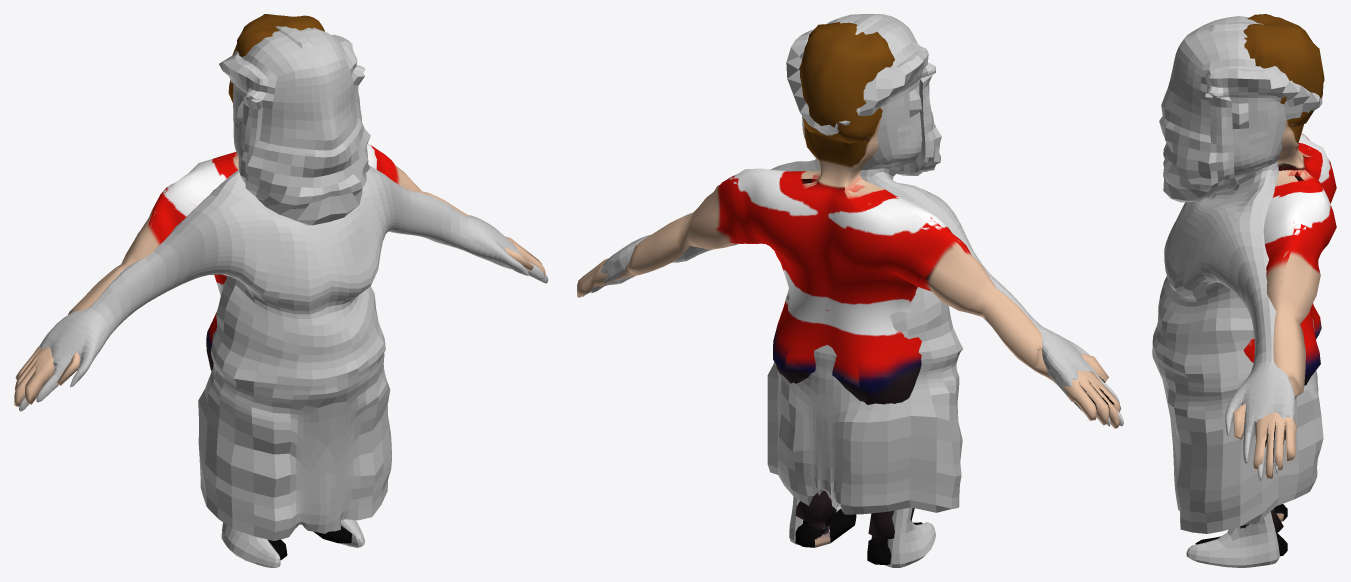
The model's file is Avatar.fbx.
The picture shows the model from 3 angles, left to right: view 1: azimuth 30°, elevation 25°; view 2: azimuth 150°, elevation 25°; view 3: azimuth 270°, elevation 25°; orthographic projection. The views are drawn at different scales.
Visible parts, largest first — view 1: Philo_Mesh, Avatar; view 2: Avatar, Philo_Mesh; view 3: Philo_Mesh, Avatar.
Part boxes in pixels (left/top/right/bottom): Philo_Mesh: left=19, top=26, right=548, bottom=567; Avatar: left=14, top=14, right=545, bottom=559; Avatar: left=577, top=22, right=1121, bottom=565; Philo_Mesh: left=578, top=14, right=1123, bottom=567; Philo_Mesh: left=1152, top=16, right=1323, bottom=567; Avatar: left=1195, top=14, right=1336, bottom=556.
Bounding box in the file's own units: 430 × 400 × 129.
